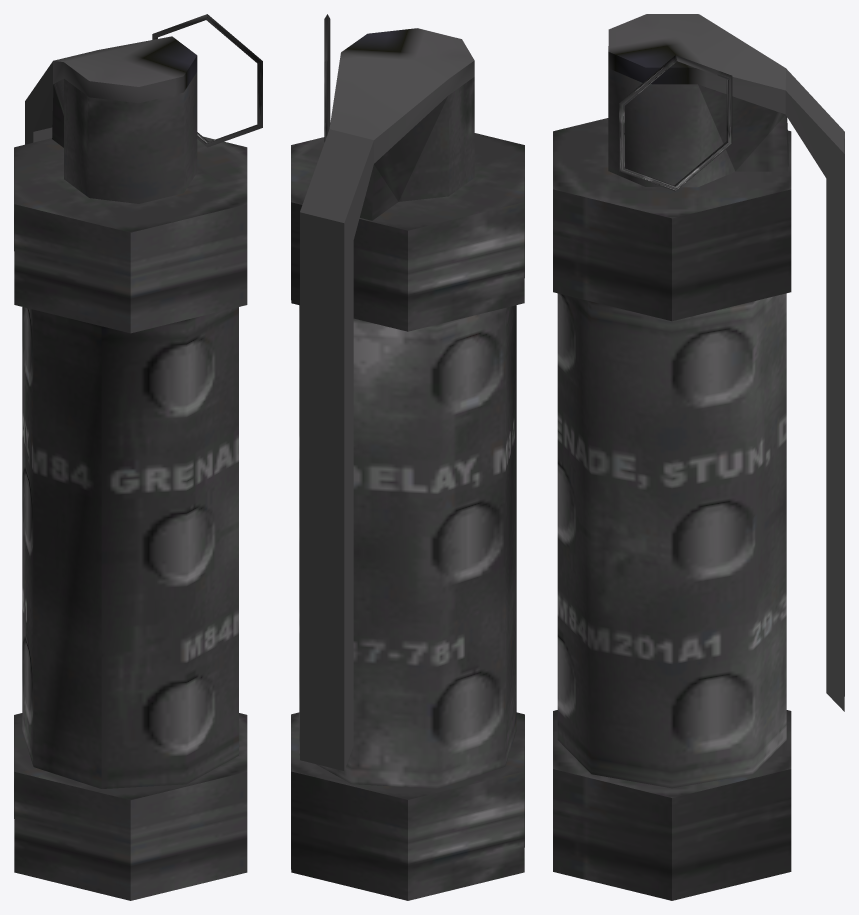
The model's file is FLSH_3RD.glb.
The picture shows the model from 3 angles, left to right: view 1: azimuth 30°, elevation 25°; view 2: azimuth 150°, elevation 25°; view 3: azimuth 270°, elevation 25°; orthographic projection. The views are drawn at different scales.
Parts seen in each view (by area): view 1: _FLSH_3RD; view 2: _FLSH_3RD; view 3: _FLSH_3RD.
Part boxes in pixels (left/top/right/bottom): _FLSH_3RD: left=14, top=14, right=262, bottom=900; _FLSH_3RD: left=291, top=14, right=524, bottom=900; _FLSH_3RD: left=553, top=14, right=844, bottom=900.
Bounding box in the file's own units: 0.069 × 0.2291 × 0.0733.
Materials: 1 (1 with a texture image).
